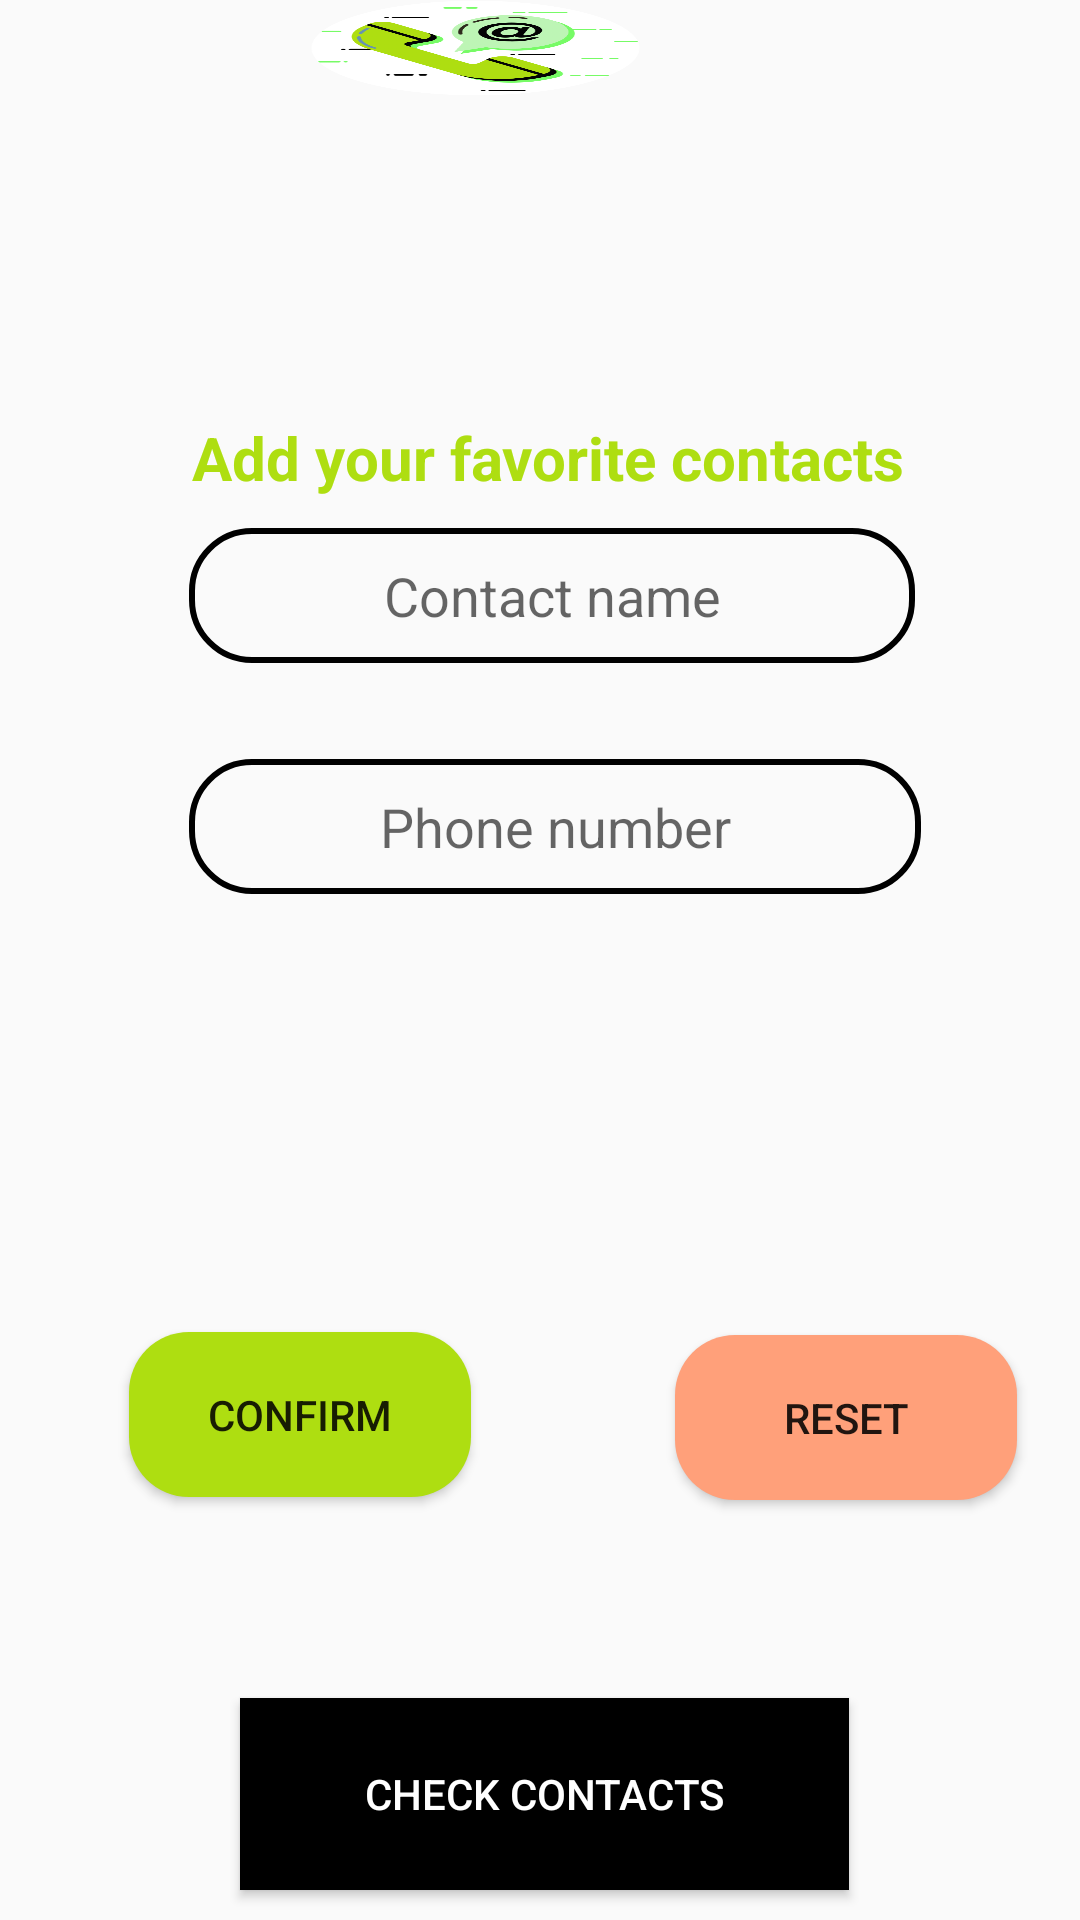

Where to tap for icons on this 1080x1920 app screen, as point (x, y):
contact: point (478, 49)
